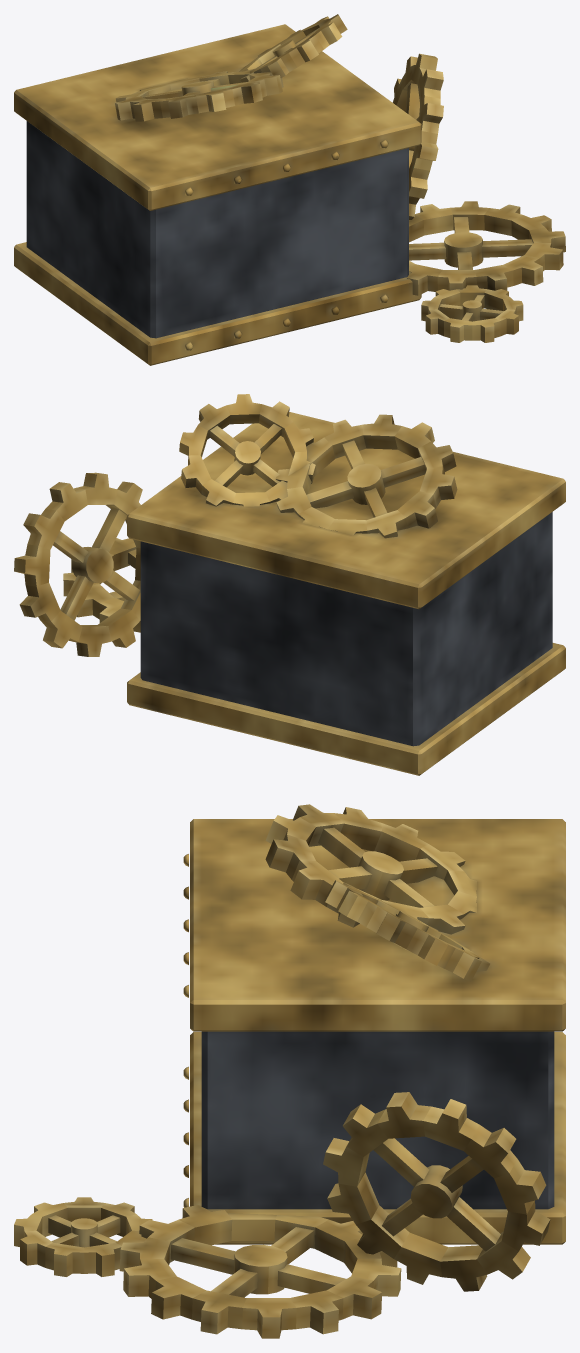
File: ClockLung_Prop_B.fbx
3 views of the same model, one above another, from view 1: azimuth 30°, elevation 25°; view 2: azimuth 150°, elevation 25°; view 3: azimuth 270°, elevation 25° (orthographic). The views are drawn at different scales.
Parts seen in each view (by area): view 1: ClockLung_Prop_B; view 2: ClockLung_Prop_B; view 3: ClockLung_Prop_B.
Part boxes in pixels (x1,y1,x2,y2): ClockLung_Prop_B: (14, 14, 565, 365); ClockLung_Prop_B: (14, 394, 565, 775); ClockLung_Prop_B: (14, 804, 565, 1338).
Bounding box in the file's own units: 1.16 × 0.6221 × 0.9396.
